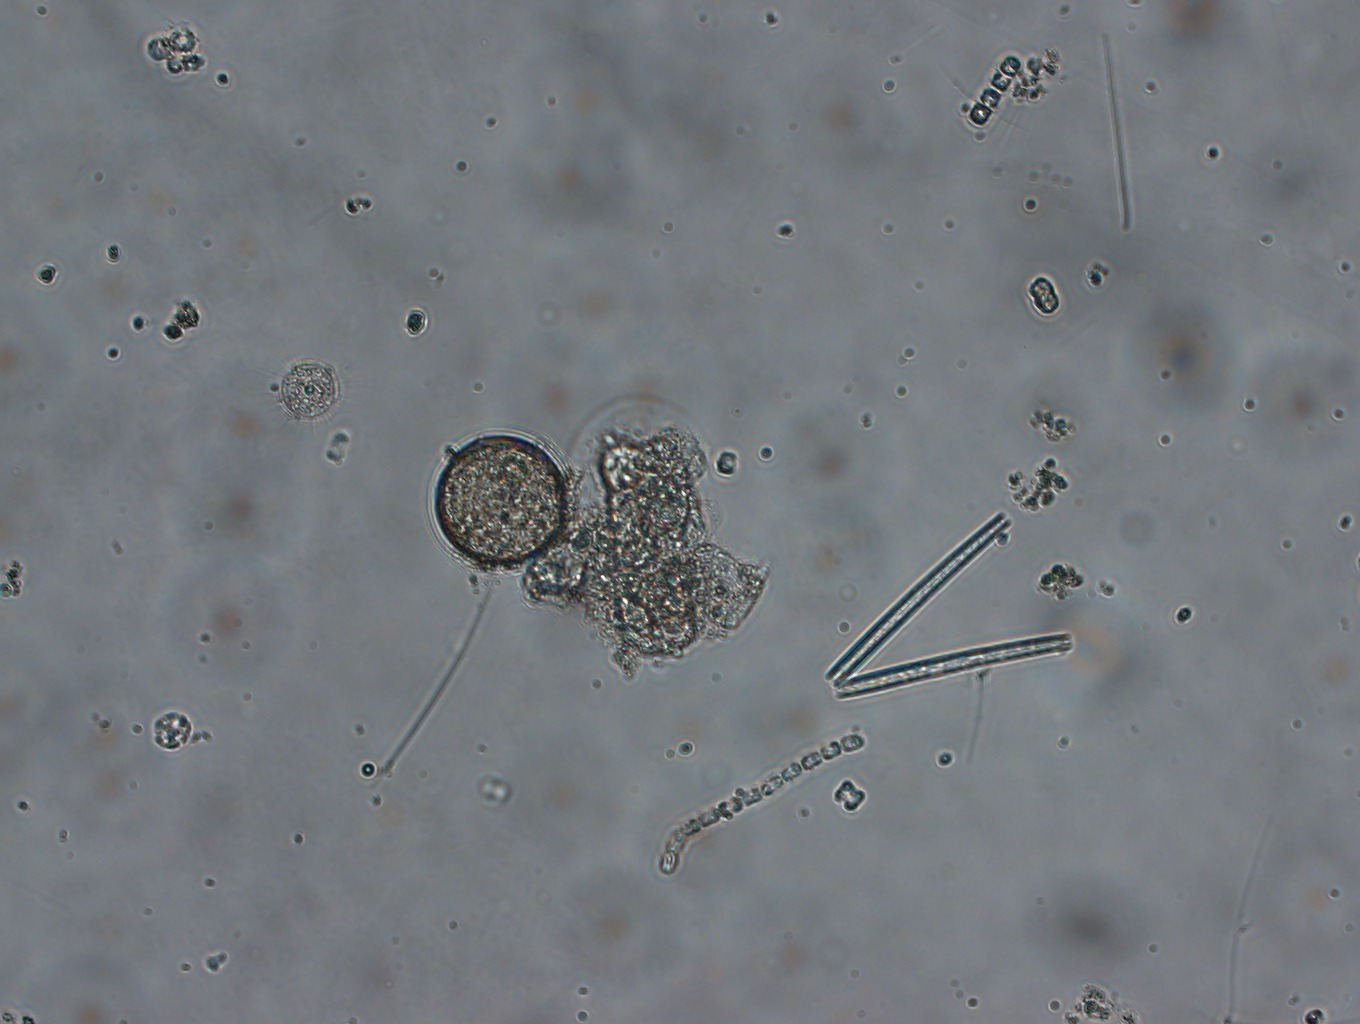coscinodiscus: (427, 426, 572, 569)
skeletonema: (660, 724, 868, 878), (950, 40, 1026, 134)
thalassionema frauenfeldii: (818, 506, 1078, 706)
